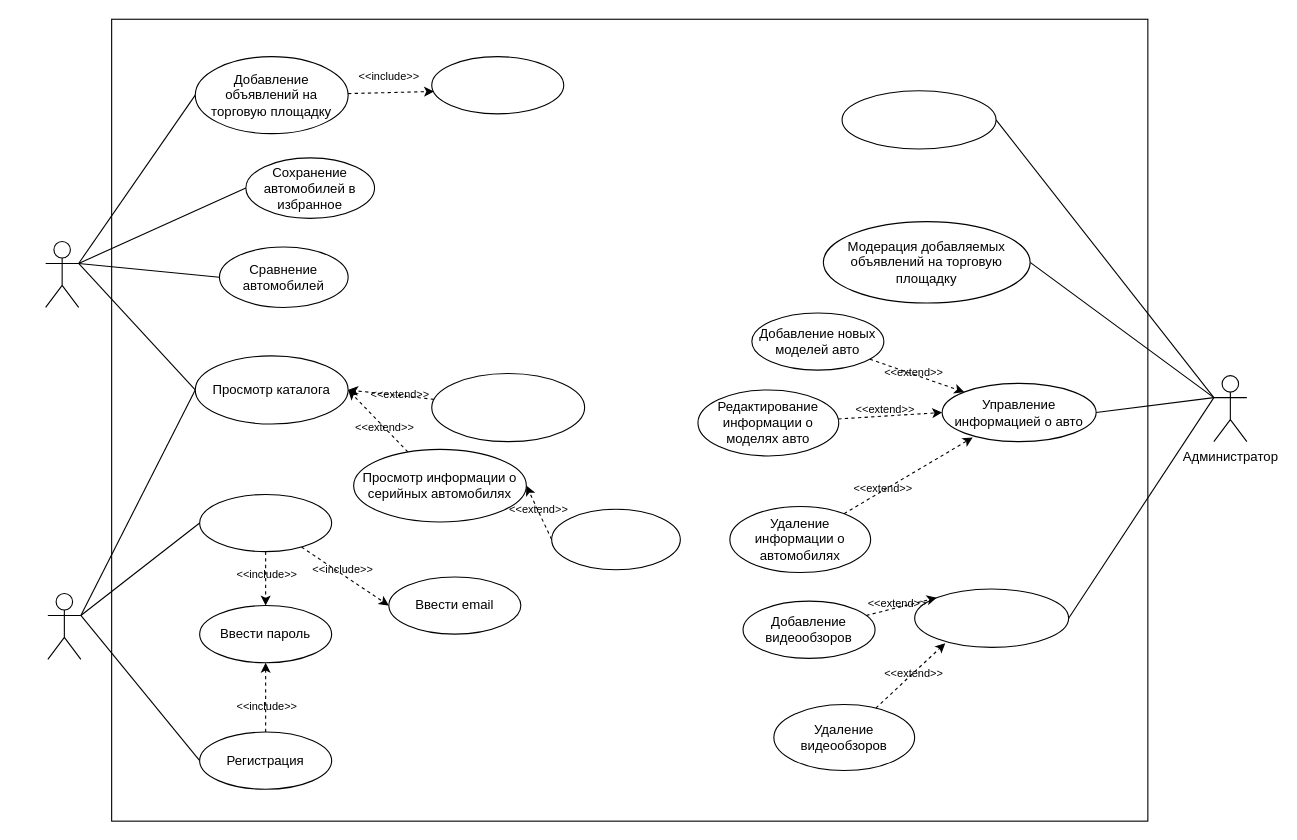
Some shapes in this 1297 by 840 pixel diagram are drawn without their labels. Here are the shapes that lost their labels. From the top down, the box of each, then its label:
(431, 56, 564, 114): Оплата объявления
(841, 90, 996, 149): Удаление пользователей
(45, 240, 79, 307): Пользователь
(431, 372, 585, 442): Просмотр объявлений пользователей
(199, 493, 332, 552): Авторизация
(551, 508, 680, 570): Просмотр видеообзоров
(47, 592, 81, 659): Гость
(914, 588, 1069, 647): Управление видеообзорами
